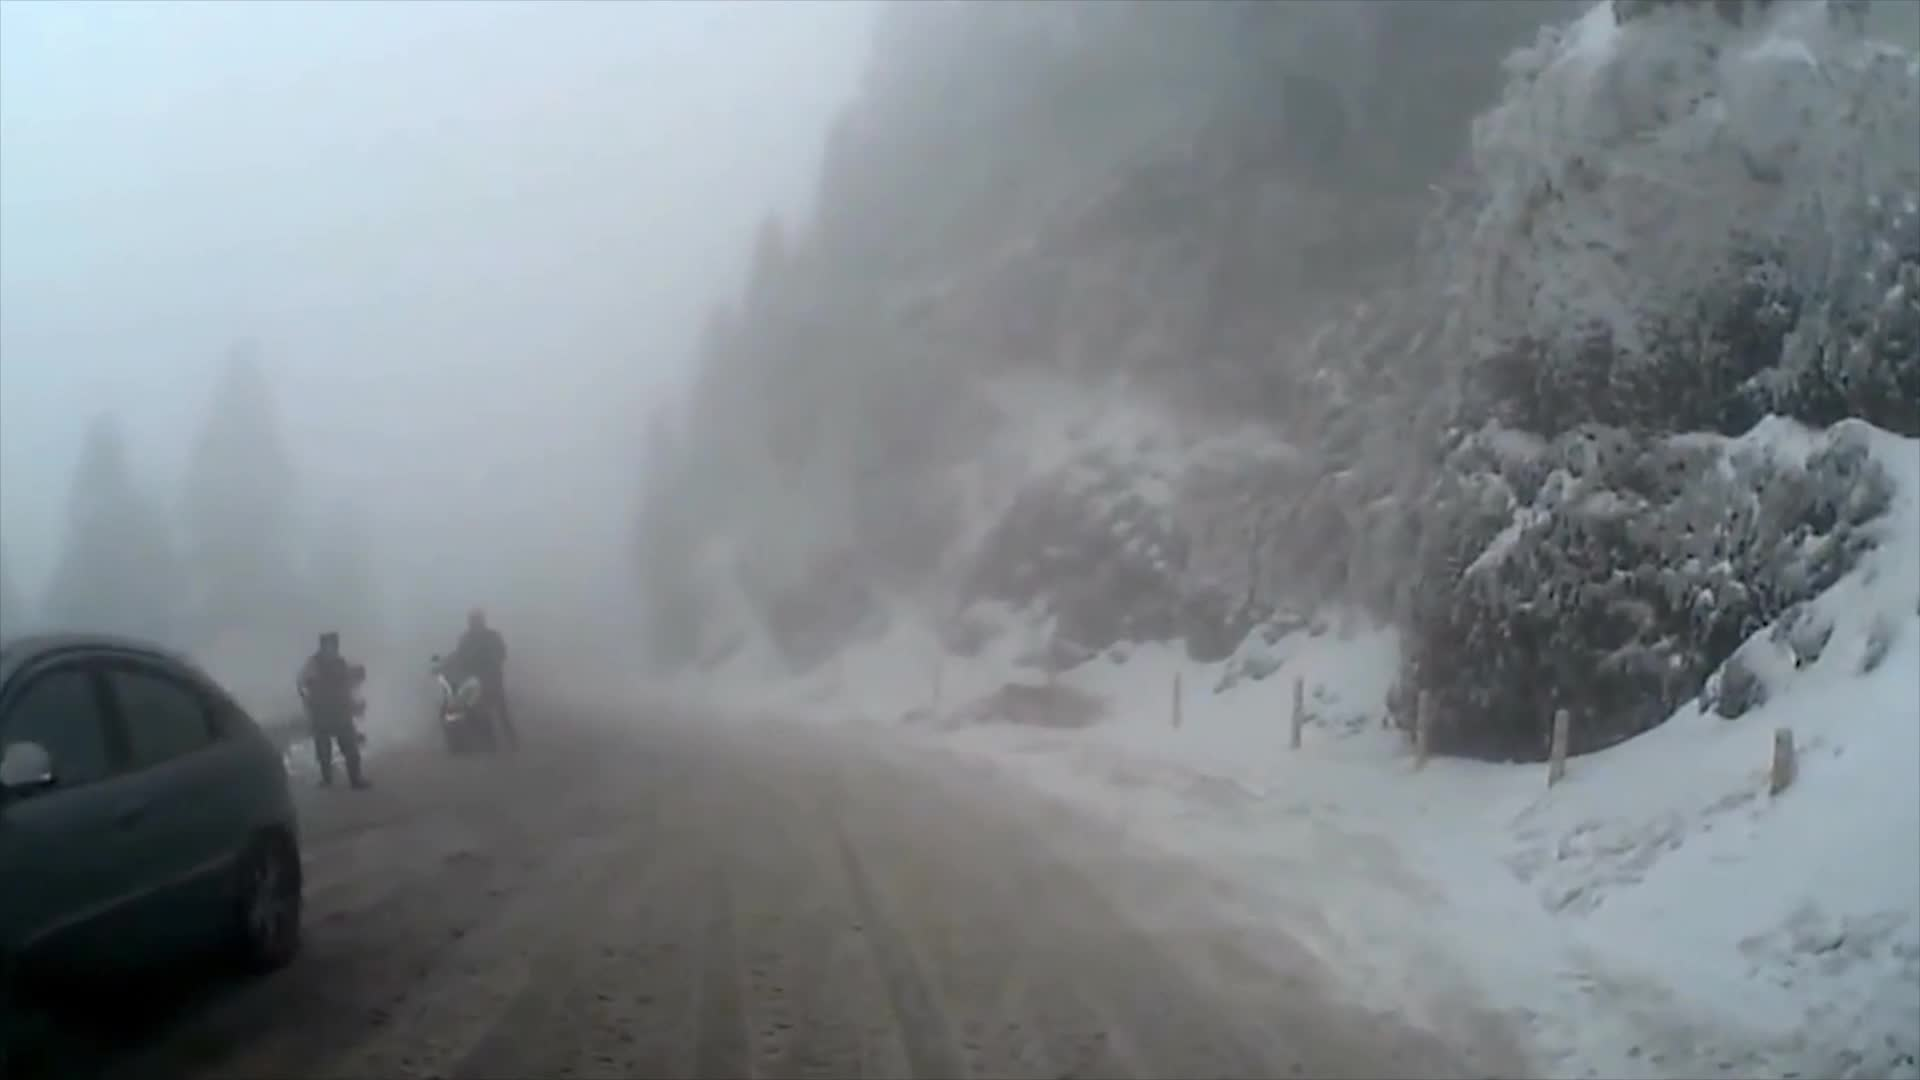pedestrian: (447, 601, 523, 744), (303, 632, 367, 795)
vehicle: (0, 623, 305, 1080)
